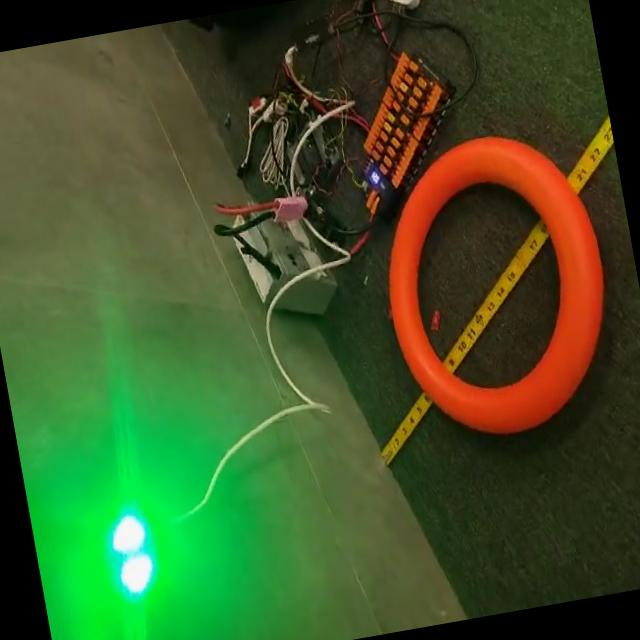note: (364, 121, 632, 448)
